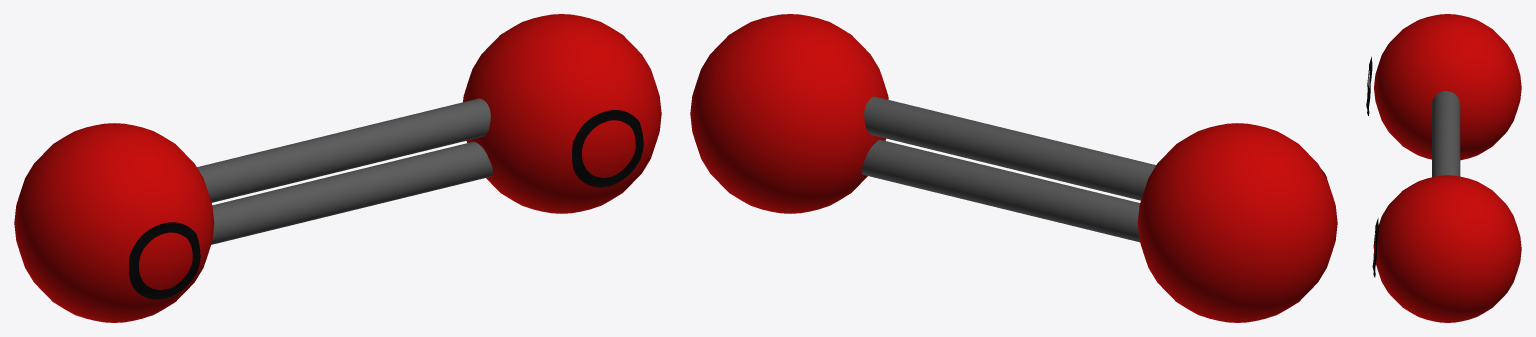
The picture shows the model from 3 angles, left to right: view 1: azimuth 30°, elevation 25°; view 2: azimuth 150°, elevation 25°; view 3: azimuth 270°, elevation 25°; orthographic projection. The views are drawn at different scales.
Parts seen in each view (by area): view 1: Sphere.001, Sphere.006, Cylinder.024, Cylinder.023, Text.018, Text.029; view 2: Sphere.001, Sphere.006, Cylinder.024, Cylinder.023; view 3: Sphere.006, Sphere.001, Cylinder.024, Text.018, Text.029.
Part boxes in pixels (left/top/right/bottom): Sphere.001: left=14, top=123, right=214, bottom=322; Sphere.006: left=463, top=14, right=661, bottom=213; Cylinder.024: left=197, top=98, right=490, bottom=202; Cylinder.023: left=211, top=141, right=492, bottom=244; Text.018: left=129, top=222, right=200, bottom=299; Text.029: left=572, top=110, right=643, bottom=187; Sphere.001: left=1137, top=123, right=1337, bottom=322; Sphere.006: left=690, top=14, right=888, bottom=213; Cylinder.024: left=864, top=96, right=1156, bottom=200; Cylinder.023: left=862, top=139, right=1139, bottom=242; Sphere.006: left=1374, top=175, right=1521, bottom=322; Sphere.001: left=1374, top=14, right=1521, bottom=160; Cylinder.024: left=1432, top=91, right=1460, bottom=177; Text.018: left=1366, top=56, right=1372, bottom=115; Text.029: left=1372, top=218, right=1378, bottom=277.
Bounding box in the file's own units: 430 × 120 × 126.
